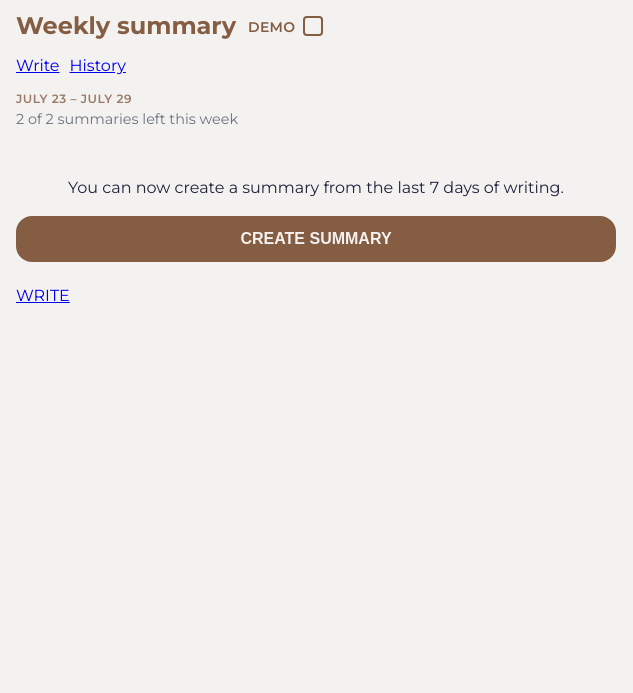
JournalSummary page states › retries a 502 then shows the summary
Click the button "CREATE SUMMARY": (316, 239) top-left (16, 216), bottom-right (616, 262)
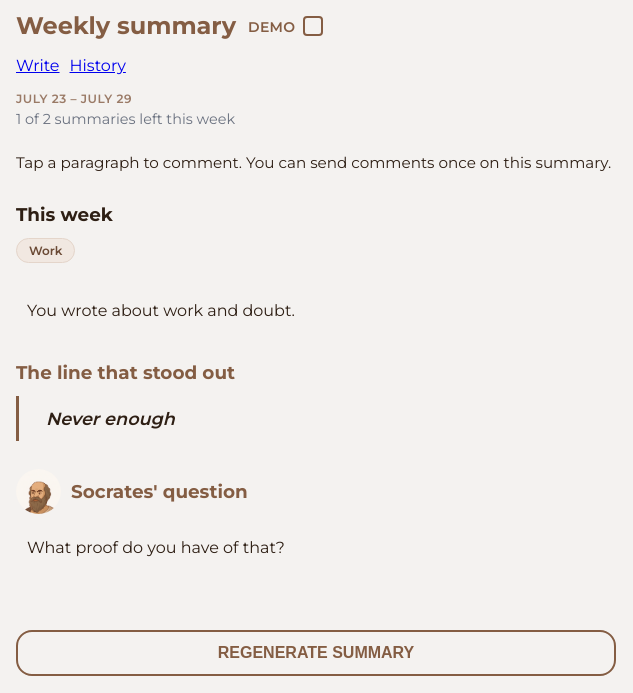
Result: the button "You wrote about work and doubt." is shown at top-left (16, 289), bottom-right (616, 333)
